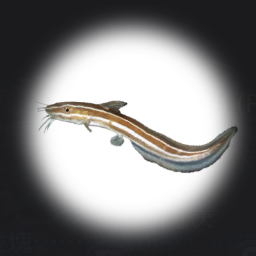gonzui: (35, 86, 239, 178)
